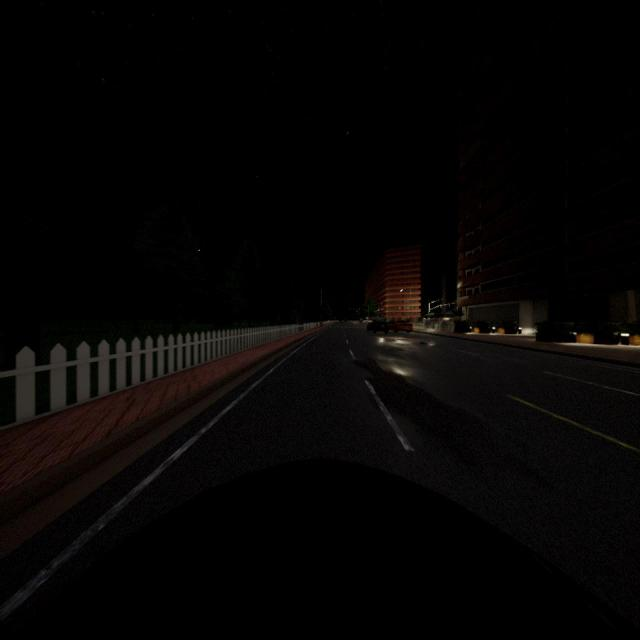Vehicle: (0, 458, 640, 640), (388, 320, 412, 334), (366, 320, 389, 334)
